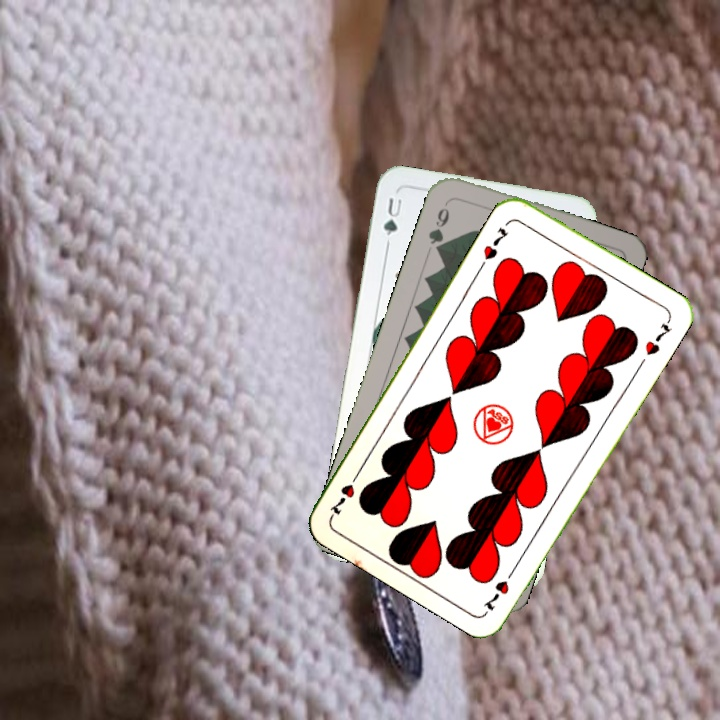G9: (424, 203, 452, 256)
GU: (379, 193, 405, 238)
H7: (478, 562, 519, 615), (479, 223, 512, 263)
